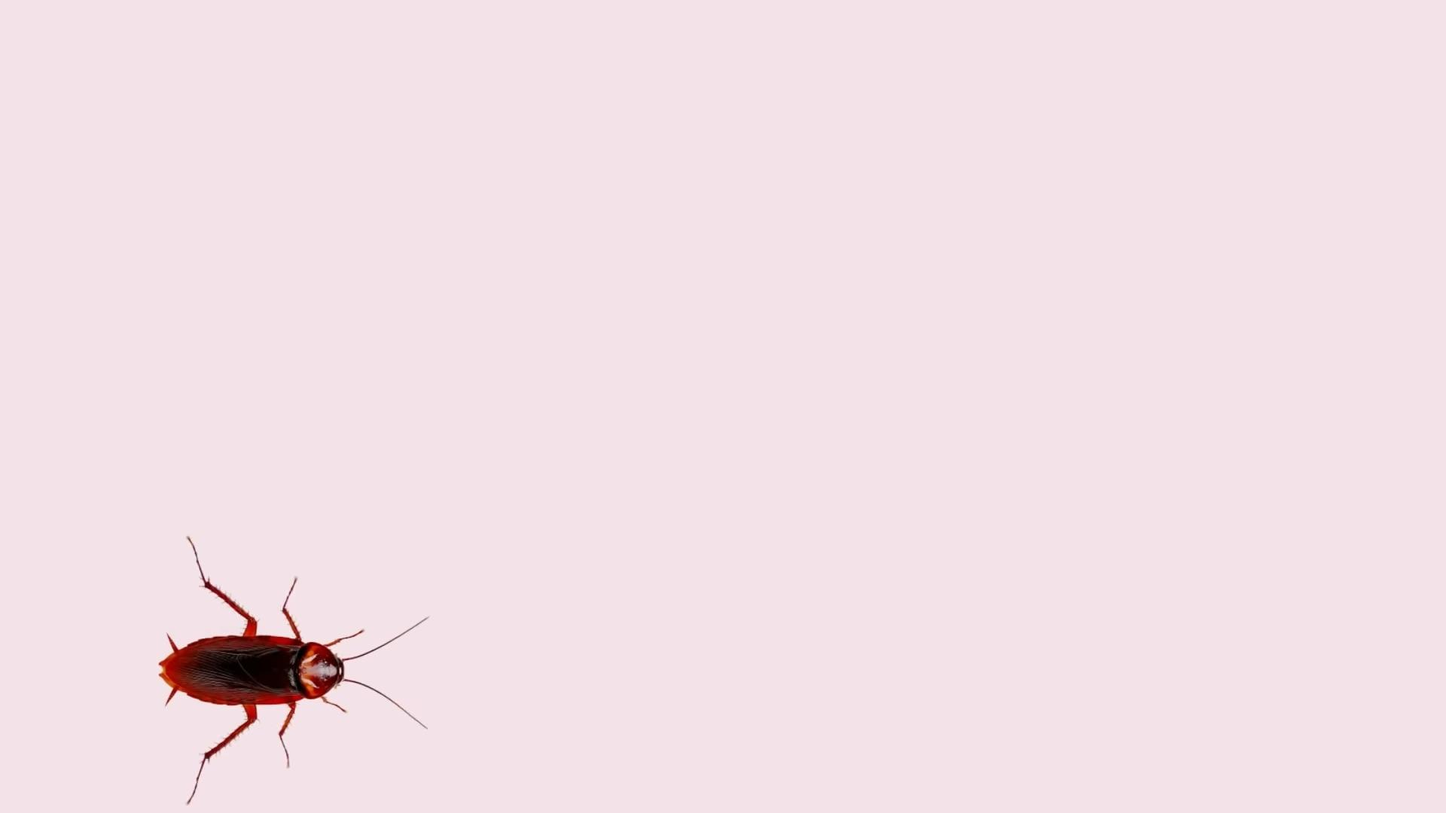cockroach: (121, 525, 432, 803)
